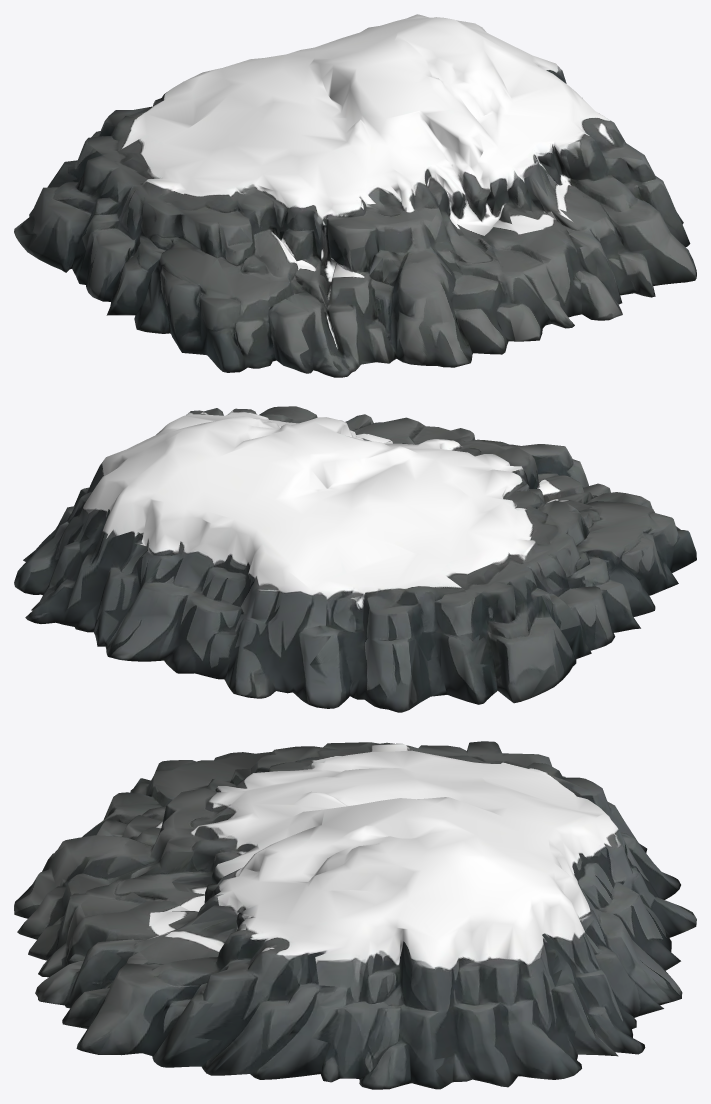
Rendered from montagne3.glb.
3 views of the same model, one above another, from view 1: azimuth 30°, elevation 25°; view 2: azimuth 150°, elevation 25°; view 3: azimuth 270°, elevation 25° (orthographic). The views are drawn at different scales.
Parts seen in each view (by area): view 1: mesh_node; view 2: mesh_node; view 3: mesh_node.
Part boxes in pixels (<box>): mesh_node: <box>14,14,696,377</box>; mesh_node: <box>14,406,696,712</box>; mesh_node: <box>14,741,696,1089</box>.
Size of the model in its own units: 1.9 by 0.4843 by 1.86.
Materials: 1 (1 with a texture image).
